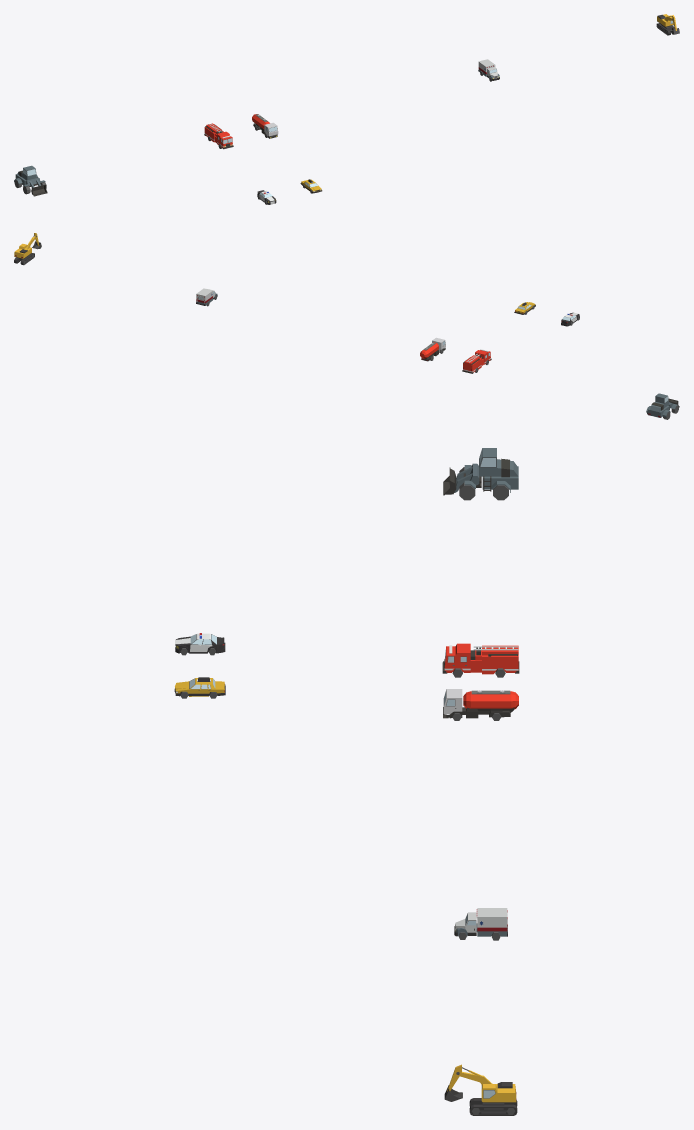
File: city_emergency_vehicles.glb
The picture shows the model from 3 angles, top to bottom: view 1: azimuth 30°, elevation 25°; view 2: azimuth 150°, elevation 25°; view 3: azimuth 270°, elevation 25°; orthographic projection. The views are drawn at different scales.
Parts seen in each view (by area): view 1: Bulldozer, Fire_Truck, Gas_Truck, Excavator, Ambulance; view 2: Bulldozer, Fire_Truck, Excavator, Gas_Truck; view 3: Bulldozer, Fire_Truck, Gas_Truck, Excavator, Ambulance.
Part boxes in pixels (left/top/right/bottom): Bulldozer: left=14, top=165, right=47, bottom=196; Fire_Truck: left=204, top=123, right=233, bottom=149; Gas_Truck: left=252, top=114, right=278, bottom=138; Excavator: left=656, top=14, right=679, bottom=35; Ambulance: left=478, top=59, right=499, bottom=81; Bulldozer: left=646, top=393, right=679, bottom=419; Fire_Truck: left=462, top=349, right=491, bottom=373; Excavator: left=14, top=233, right=41, bottom=265; Gas_Truck: left=420, top=337, right=445, bottom=361; Bulldozer: left=443, top=448, right=518, bottom=500; Fire_Truck: left=442, top=643, right=519, bottom=677; Gas_Truck: left=443, top=689, right=518, bottom=720; Excavator: left=444, top=1064, right=517, bottom=1115; Ambulance: left=454, top=908, right=507, bottom=940.
Bounding box in the file's own units: 44.32 × 1.44 × 10.17.
1 material, 1 textured.
